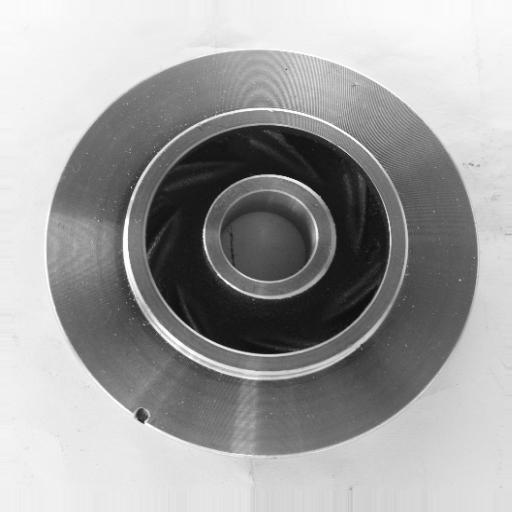pit: (125, 400, 159, 432)
unpolished_casting: (43, 45, 475, 464)
